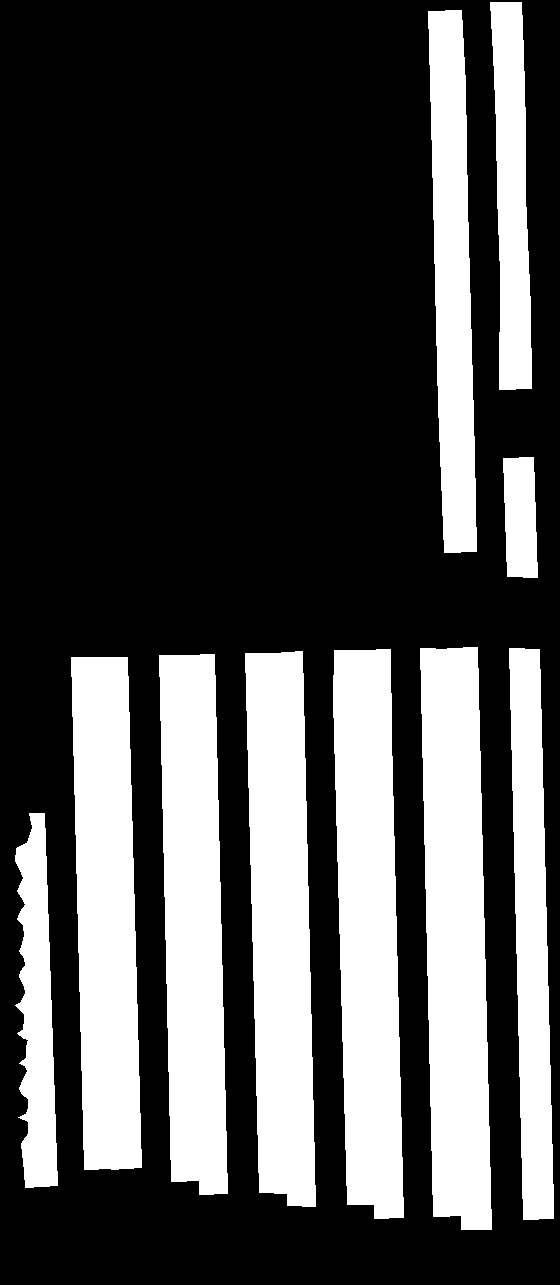parkingspot: (428, 10, 476, 552), (447, 647, 491, 1229), (420, 648, 465, 1216), (509, 648, 553, 1219), (360, 649, 403, 1218), (333, 650, 376, 1204), (273, 651, 315, 1206), (245, 653, 287, 1193), (185, 654, 227, 1194), (159, 655, 201, 1181), (98, 657, 141, 1169), (71, 657, 113, 1169), (490, 2, 531, 389), (15, 813, 57, 1187), (503, 457, 537, 577)
